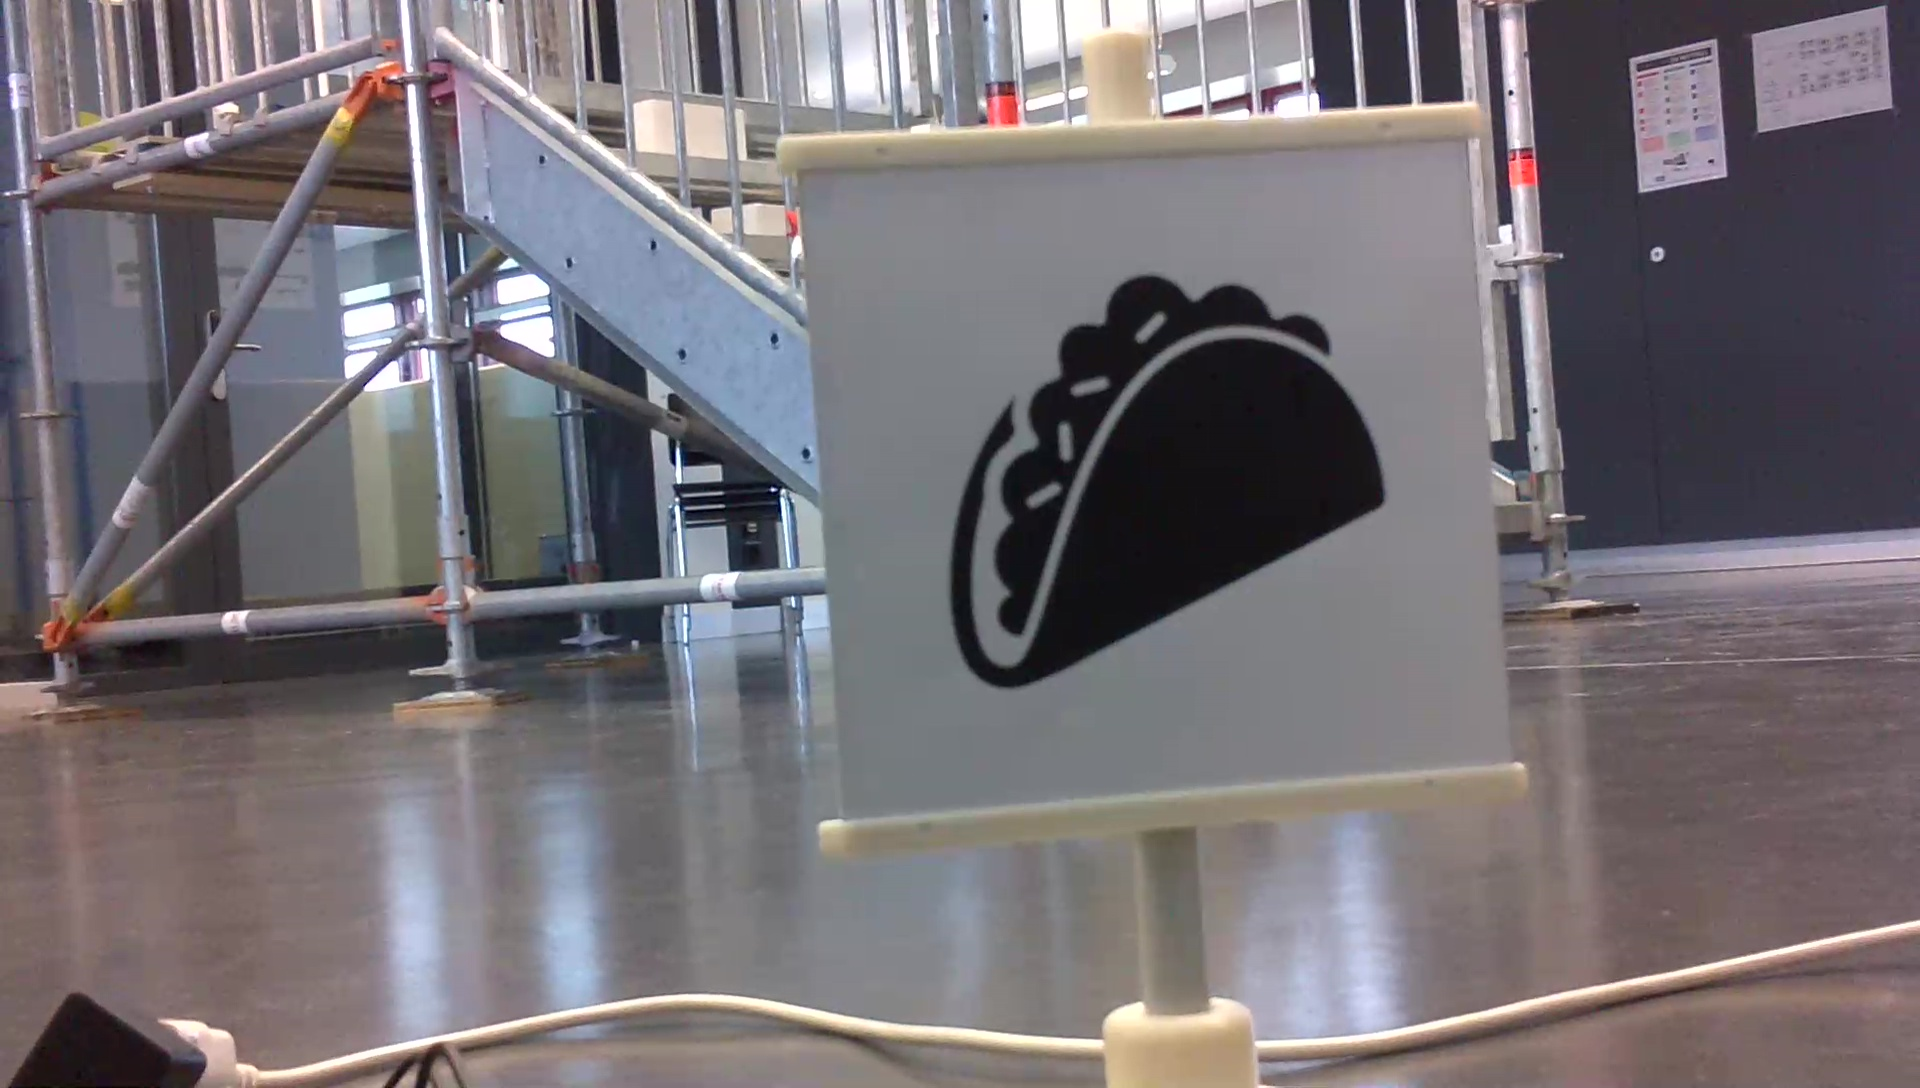taco: (938, 266, 1396, 700)
